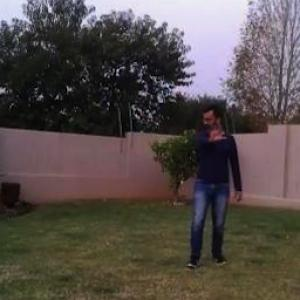follow_hand: (203, 114, 227, 144)
